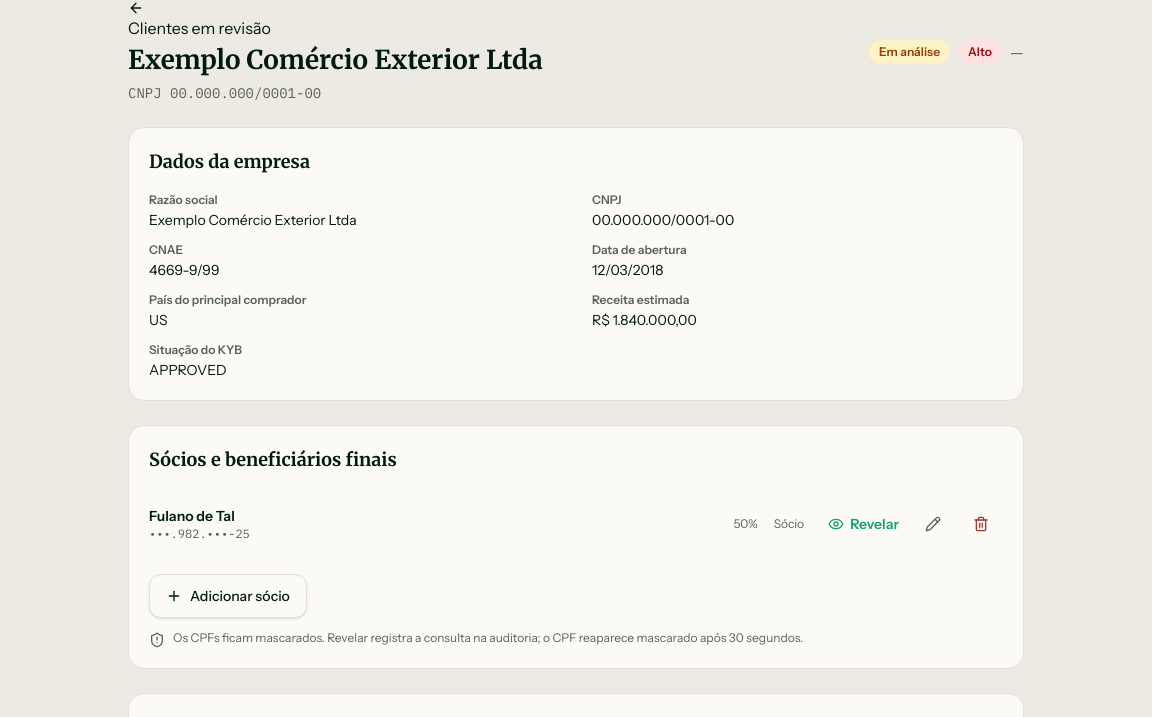
ClientReview — owners CRUD › requires a PEP position when the owner is a PEP
Expected: the heading "Sócios e beneficiários finais" is shown, [149,448,397,471]
Click the button "Adicionar sócio".
click(228, 596)  # box [149,574,307,618]
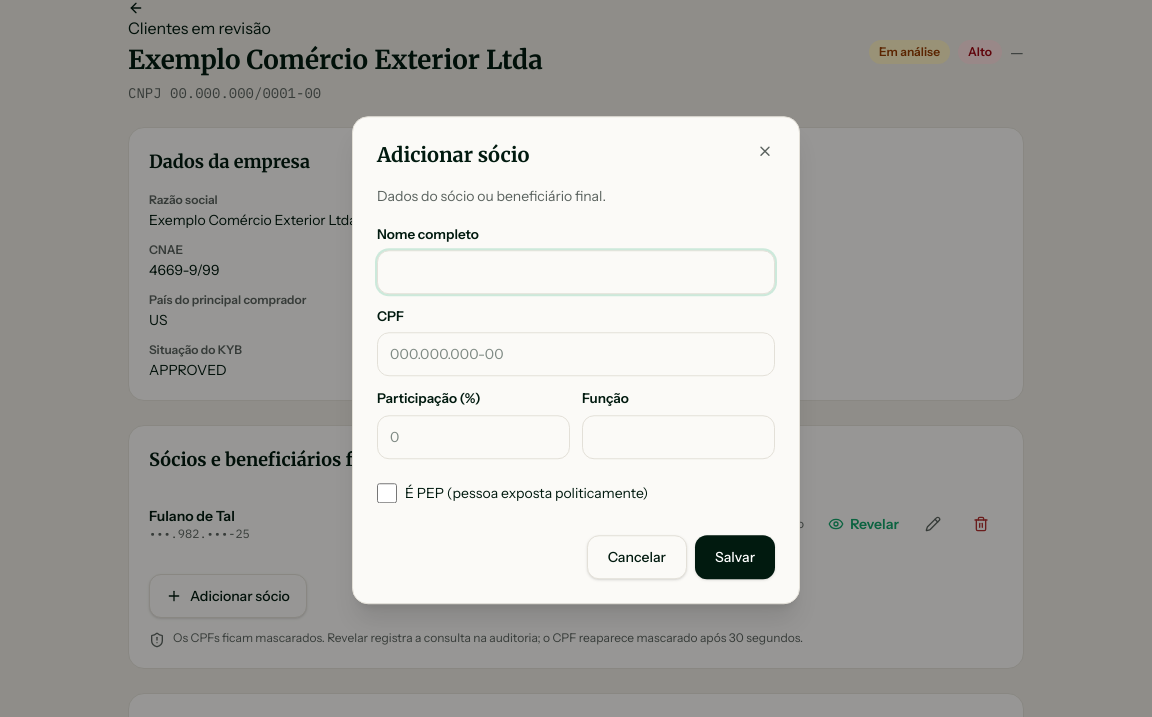
Type "Político" into the field below "Nome completo".
click(576, 272); type("Político")  # box [377,250,775,294]
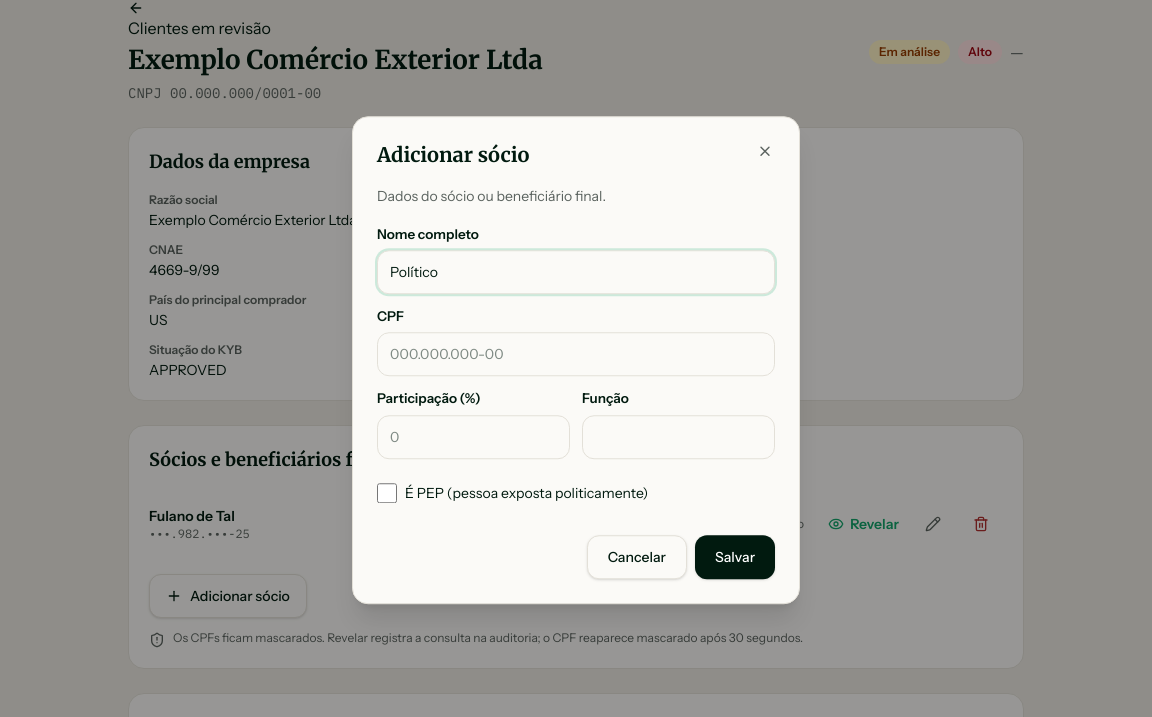
Type "52998224725" into the field with placeholder "000.000.000-00".
click(576, 354); type("52998224725")  # box [377,332,775,376]
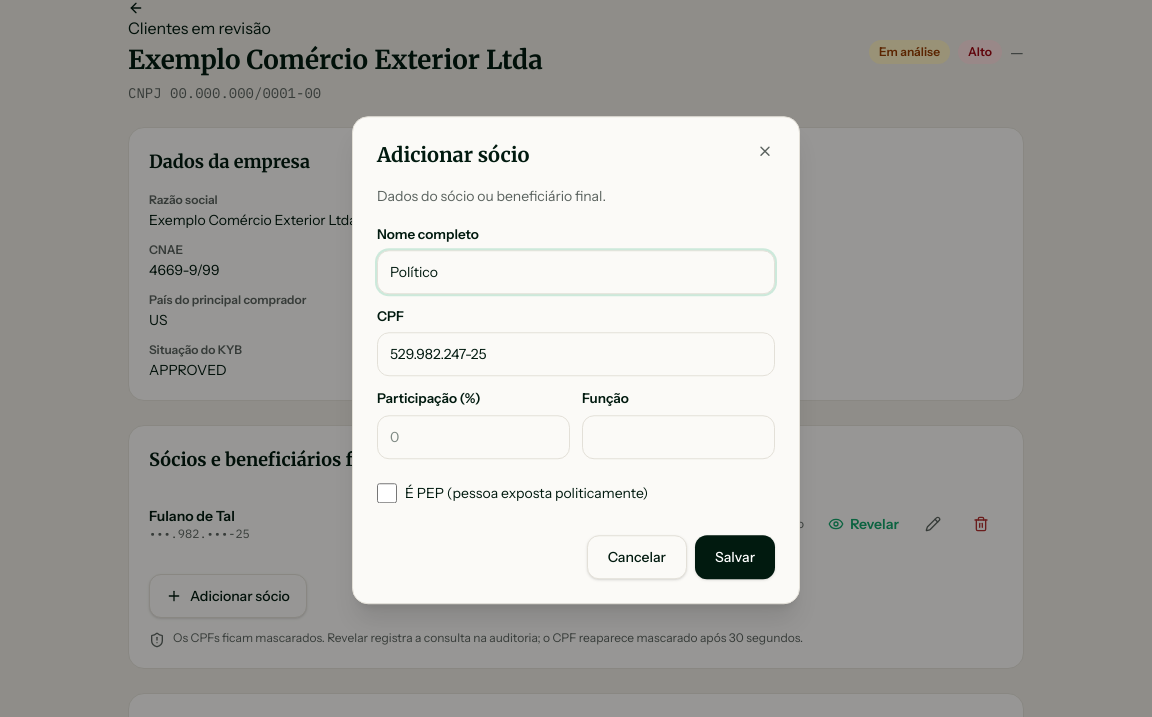
Click the checkbox labelled "É PEP (pessoa exposta politicamente)".
click(387, 493)  # box [377,483,397,503]
(page scrolled)
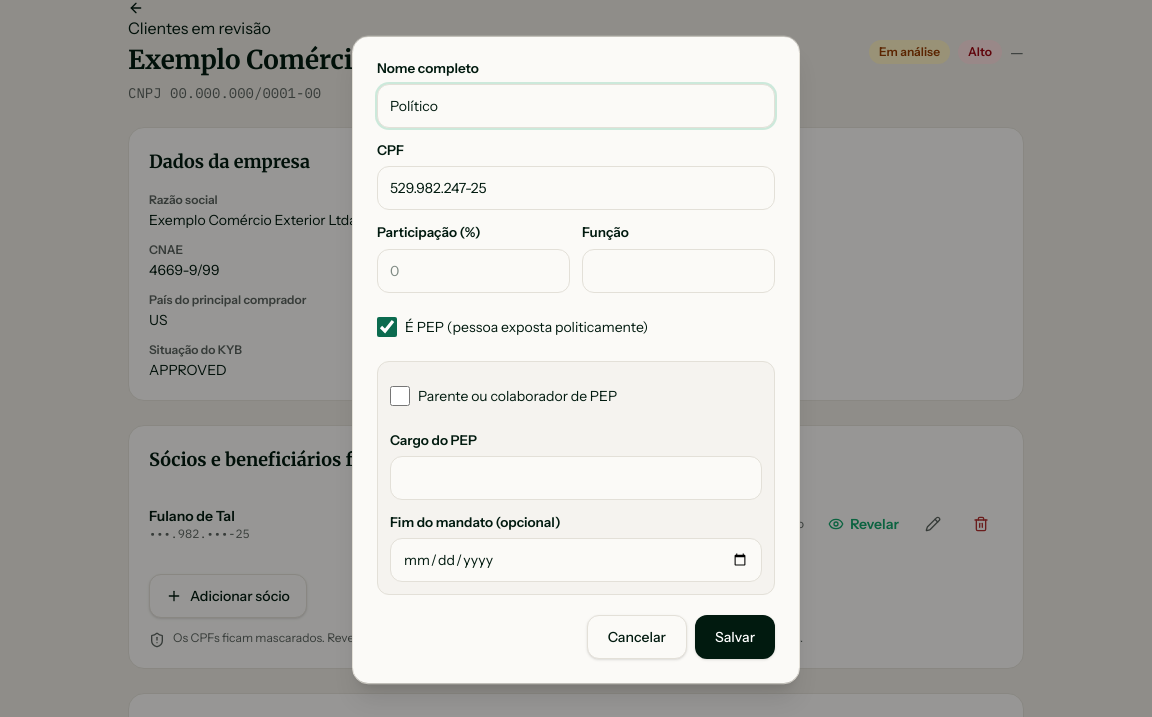
Click the button "Salvar".
click(735, 637)  # box [695,615,775,659]
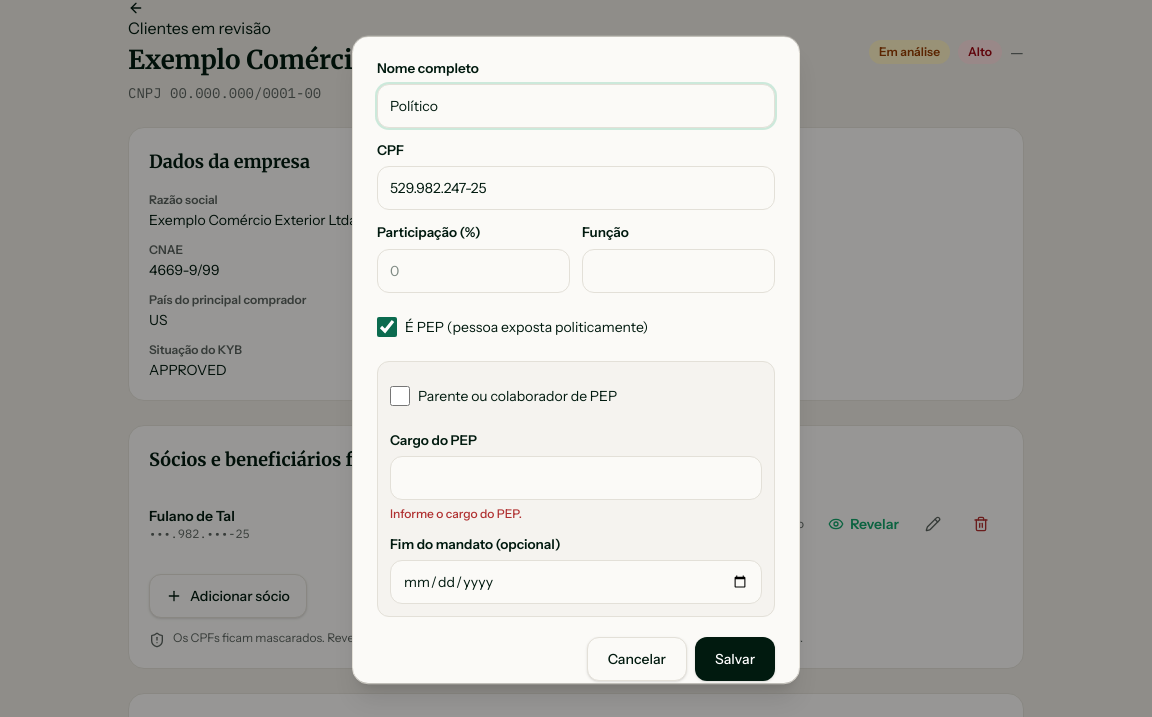
Expected: the text "Informe o cargo do PEP." is shown, [390,506,522,521]
